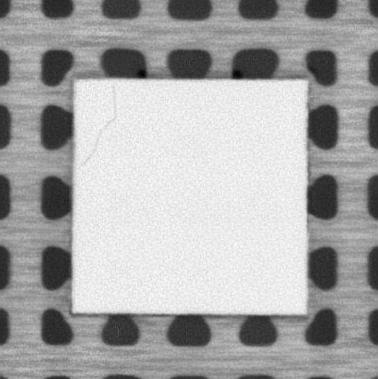DIE_CRACK: (82, 84, 117, 169)
